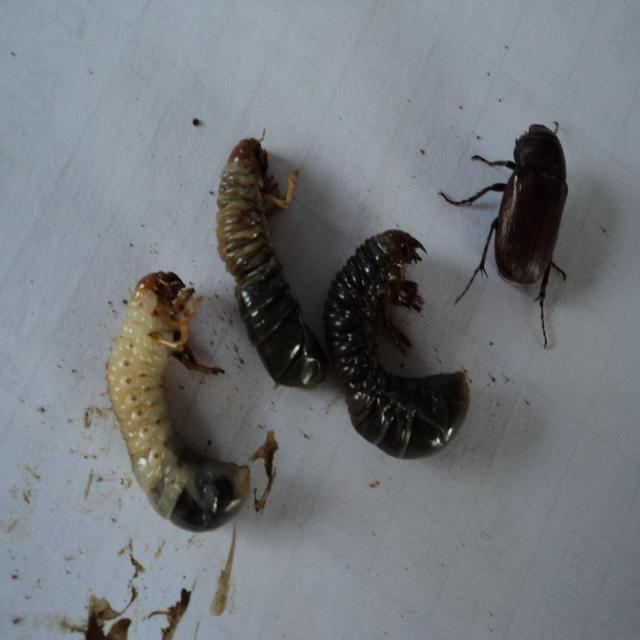Grub-Adult-: (93, 253, 254, 534)
